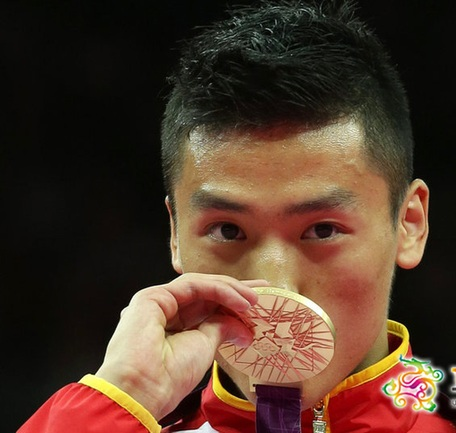face: (181, 112, 390, 391)
